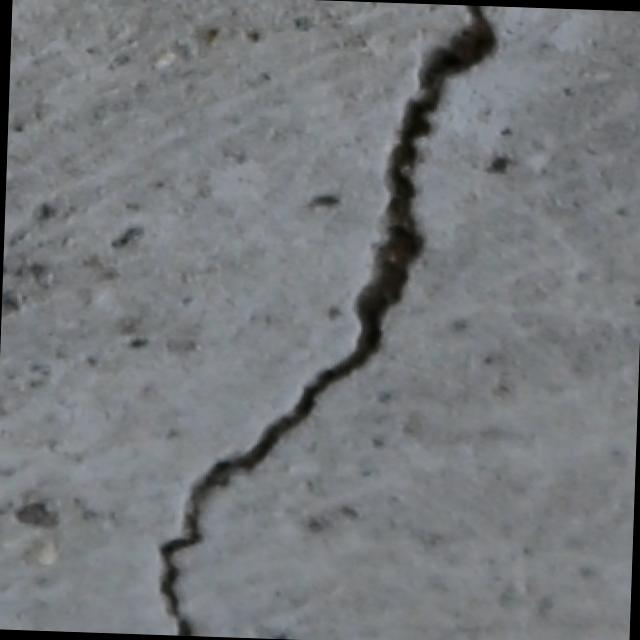crack: (141, 0, 500, 640)
